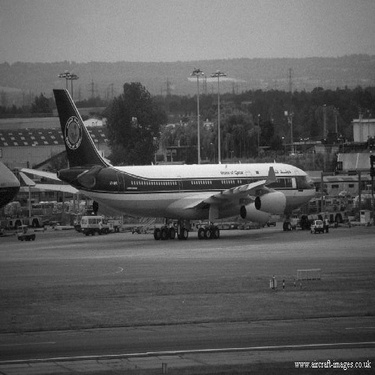airplane: (38, 75, 333, 262), (4, 146, 30, 232)
car: (294, 209, 332, 239)
